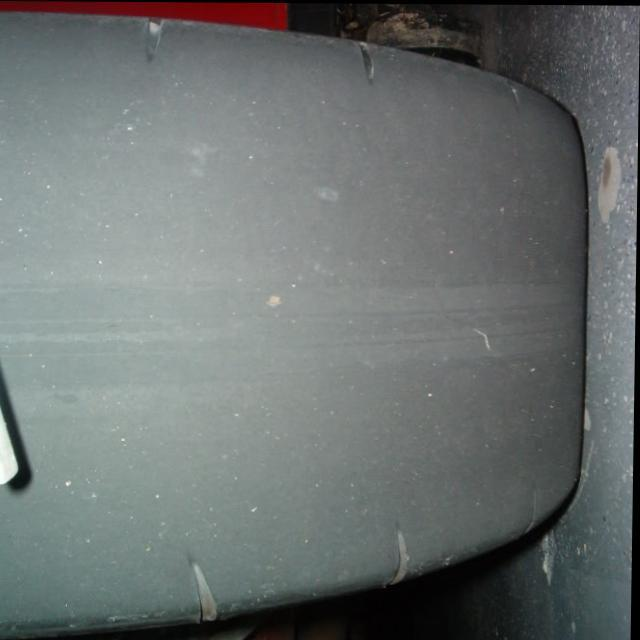Flat spots: (19, 107, 588, 506)
